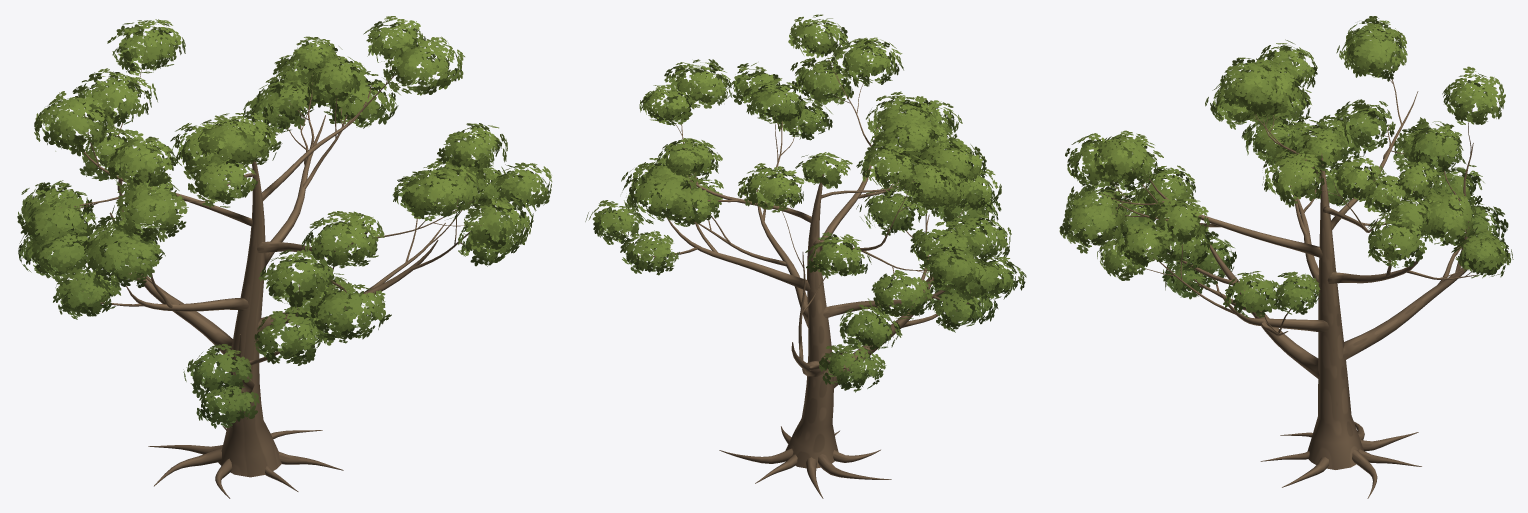
The model's file is tree.gltf.
The picture shows the model from 3 angles, left to right: view 1: azimuth 30°, elevation 25°; view 2: azimuth 150°, elevation 25°; view 3: azimuth 270°, elevation 25°; orthographic projection. The views are drawn at different scales.
Visible parts, largest first — view 1: Tree_LOD0; view 2: Tree_LOD0; view 3: Tree_LOD0.
Boxes of the visible parts, bbox=[...] form: Tree_LOD0: bbox=[17, 16, 552, 498]; Tree_LOD0: bbox=[585, 14, 1026, 498]; Tree_LOD0: bbox=[1059, 16, 1513, 498].
Size of the model in its own units: 27.84 by 24.76 by 27.1.
Materials: 2 (2 with a texture image).
